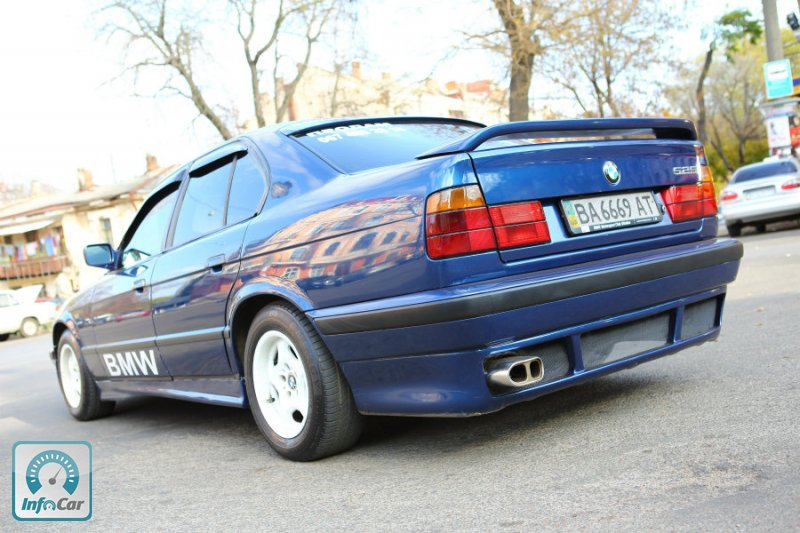car: (51, 113, 745, 462)
plate: (562, 191, 665, 233)
